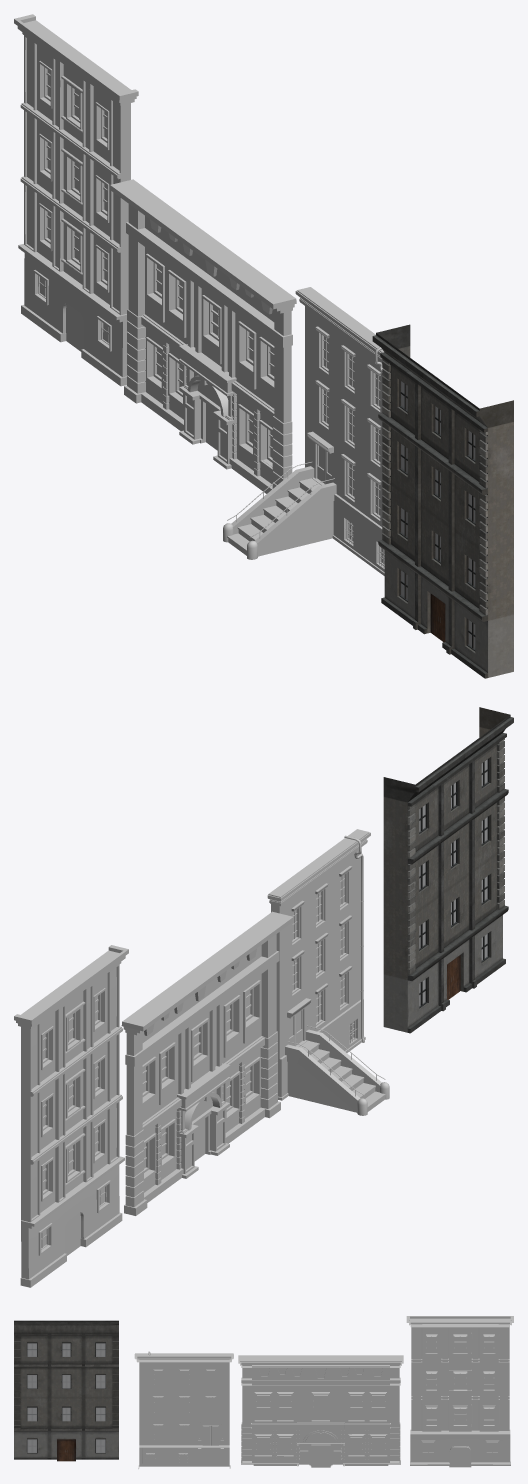
The picture shows the model from 3 angles, top to bottom: view 1: azimuth 30°, elevation 25°; view 2: azimuth 150°, elevation 25°; view 3: azimuth 270°, elevation 25°; orthographic projection. The views are drawn at different scales.
Parts seen in each view (by area): view 1: Building_4, Buidling_2, Building_1, Buidling_3; view 2: Buidling_2, Building_4, Building_1, Buidling_3; view 3: Buidling_2, Building_1, Building_4, Buidling_3.
Boxes of the visible parts, x1=… form: Building_4: x1=372, y1=324, x2=513, y2=678; Buidling_2: x1=110, y1=179, x2=296, y2=493; Building_1: x1=14, y1=14, x2=138, y2=386; Buidling_3: x1=223, y1=287, x2=384, y2=575; Buidling_2: x1=121, y1=911, x2=293, y2=1215; Building_4: x1=383, y1=707, x2=513, y2=1033; Building_1: x1=14, y1=945, x2=128, y2=1287; Buidling_3: x1=267, y1=829, x2=389, y2=1115; Buidling_2: x1=238, y1=1355, x2=403, y2=1467; Building_1: x1=406, y1=1316, x2=513, y2=1467; Building_4: x1=14, y1=1320, x2=118, y2=1461; Buidling_3: x1=134, y1=1351, x2=233, y2=1468.
Bounding box in the file's own units: 9.63 × 27.68 × 84.19.
